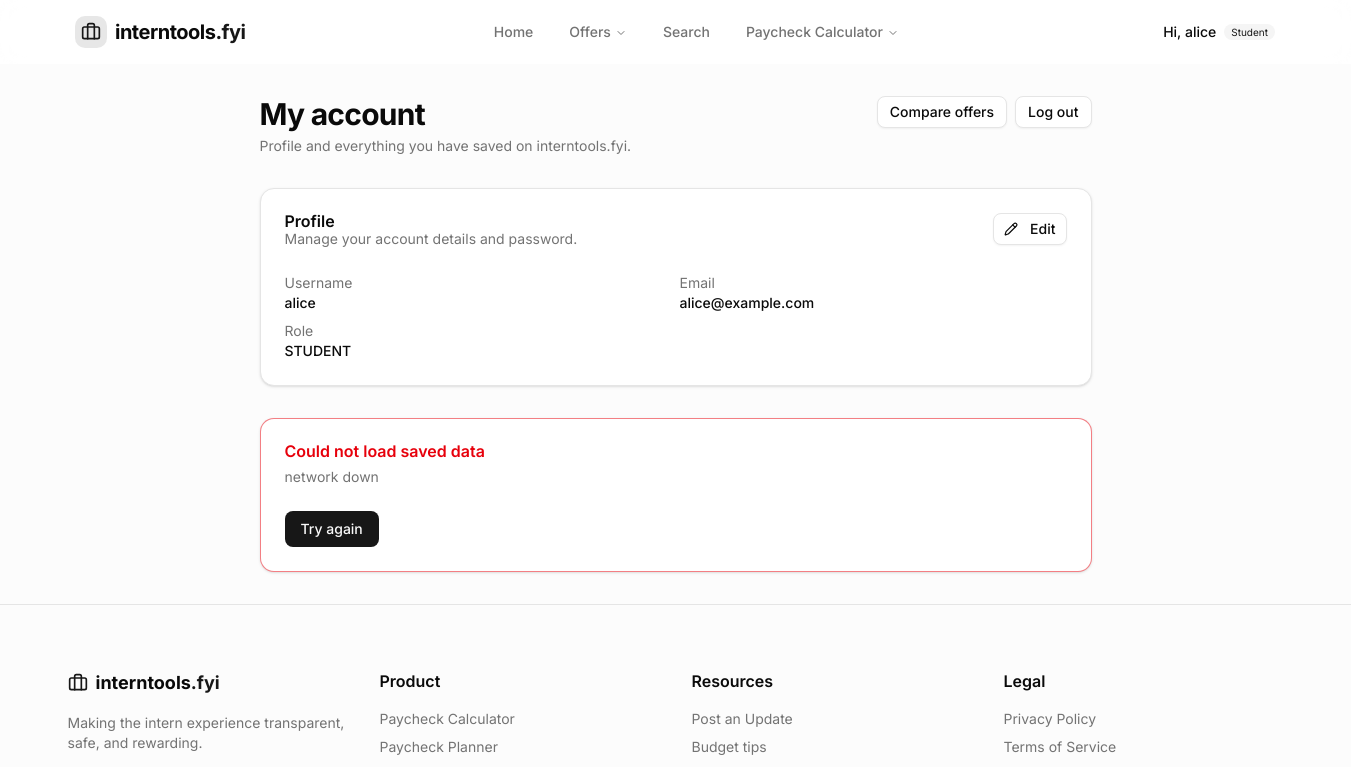
Test: /me page › shows load error and retries successfully
The width and height of the screenshot is (1366, 767).
Check: the text "Could not load saved data" is shown, box x1=284 y1=441 x2=485 y2=461
Check: the text "network down" is shown, box x1=284 y1=468 x2=379 y2=485
What coordinates should you click on to do the following:
click the button "Try again"
I would click on:
 (332, 529)
Its box is x1=284 y1=511 x2=379 y2=547.
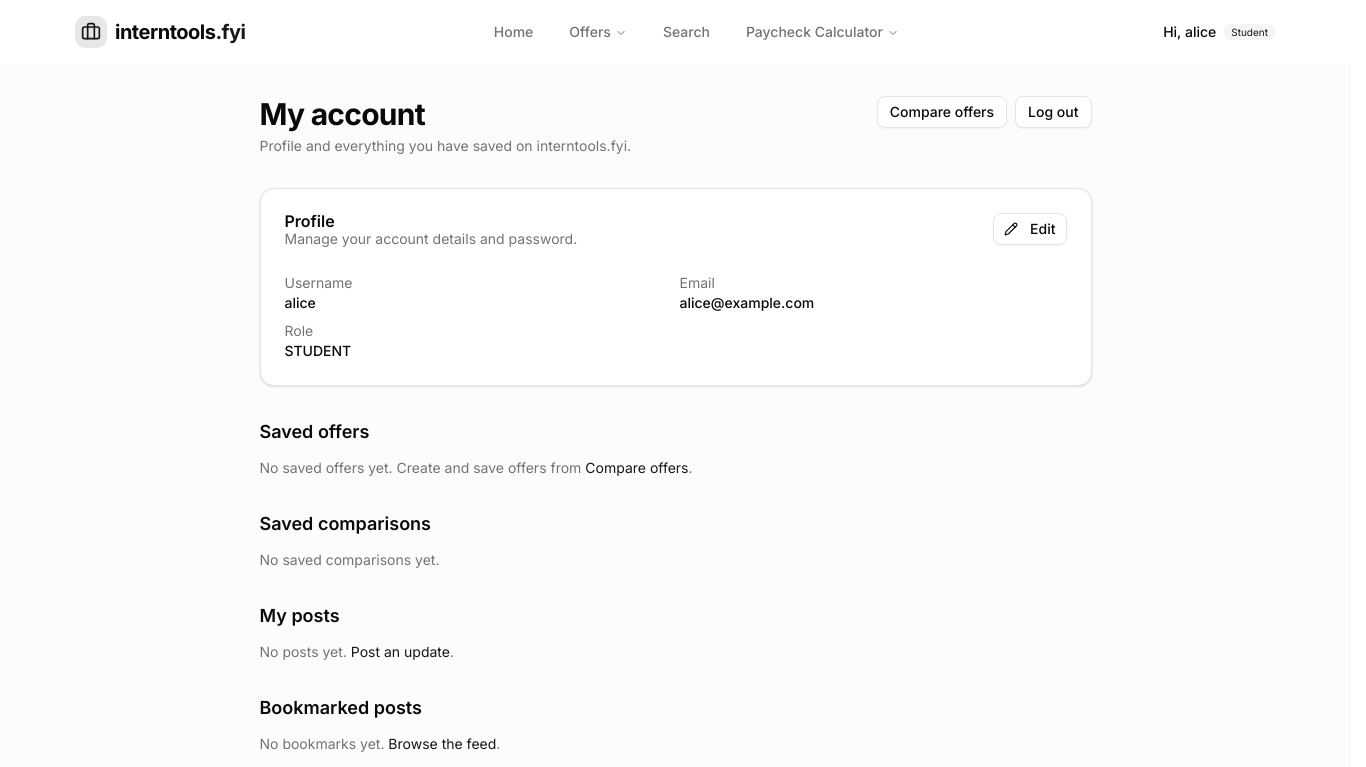
Check: the heading "Saved offers" is shown, box x1=260 y1=421 x2=369 y2=442
